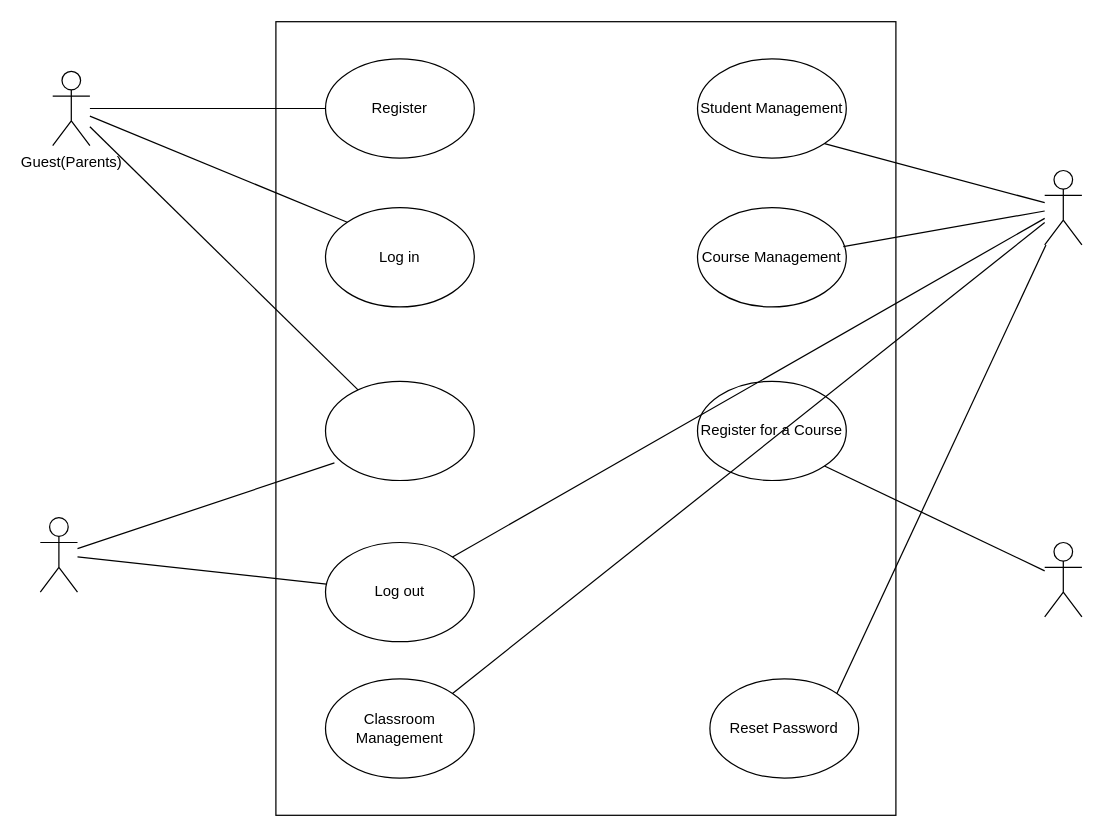
Image size: 1111x837. Some labels were removed from this diagram. Each missing label, with the centre of its shape:
"Admin" belongs at [1062,207].
"Student" belongs at [58,554].
"Teacher" belongs at [1062,579].
"View Course Information" belongs at [399,430].
